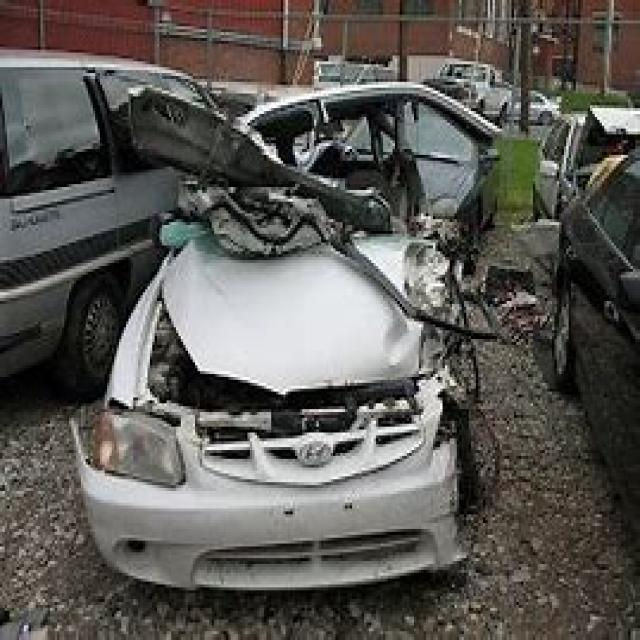Accident: (51, 10, 569, 501)
